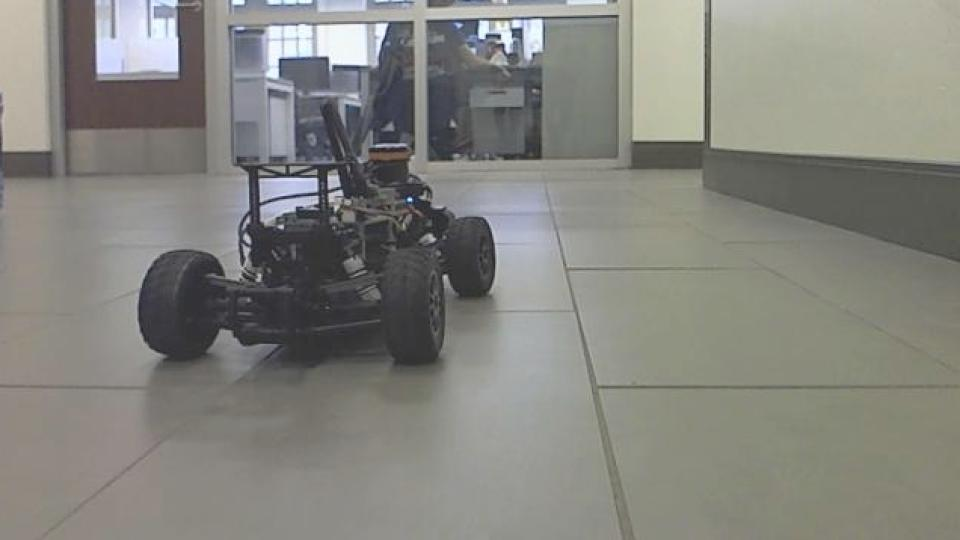car: (134, 97, 501, 368)
